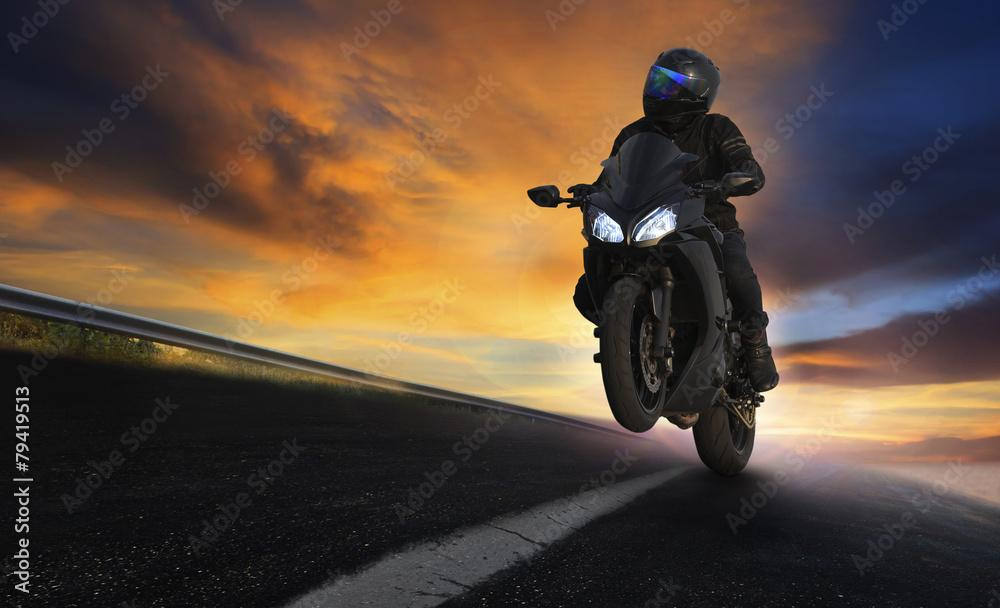helmet: (642, 46, 722, 123)
